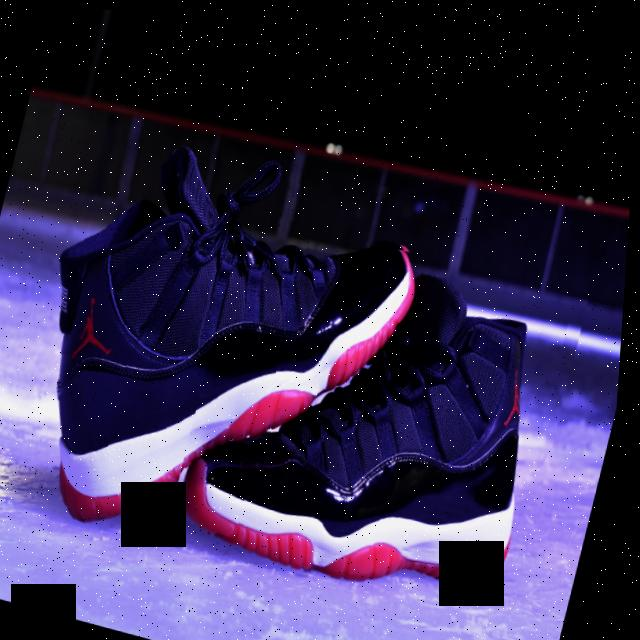shoe: (0, 96, 454, 606), (166, 199, 594, 633)
